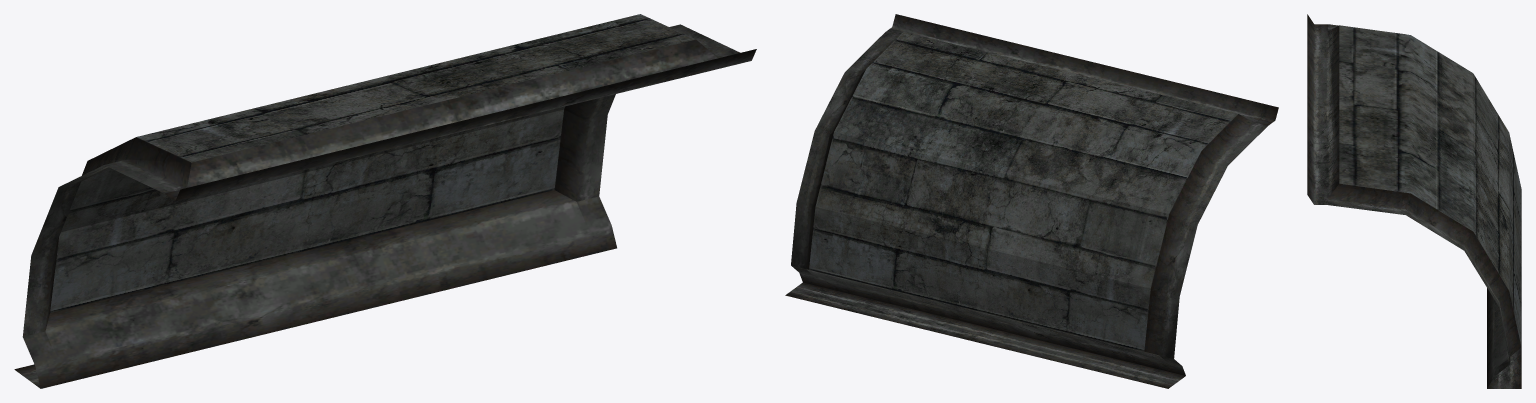
The model's file is concave_flat.dae.
The picture shows the model from 3 angles, left to right: view 1: azimuth 30°, elevation 25°; view 2: azimuth 150°, elevation 25°; view 3: azimuth 270°, elevation 25°; orthographic projection. The views are drawn at different scales.
Visible parts, largest first — view 1: polySurface1, polySurface10; view 2: polySurface10, polySurface1; view 3: polySurface10, polySurface1.
Boxes of the visible parts, left/top/right/bottom form: polySurface1: left=14, top=24, right=756, bottom=388; polySurface10: left=50, top=14, right=695, bottom=312; polySurface10: left=809, top=32, right=1237, bottom=351; polySurface1: left=785, top=14, right=1278, bottom=388; polySurface10: left=1339, top=25, right=1521, bottom=346; polySurface1: left=1307, top=14, right=1521, bottom=388.
Size of the model in its own units: 4 by 2 by 2.
